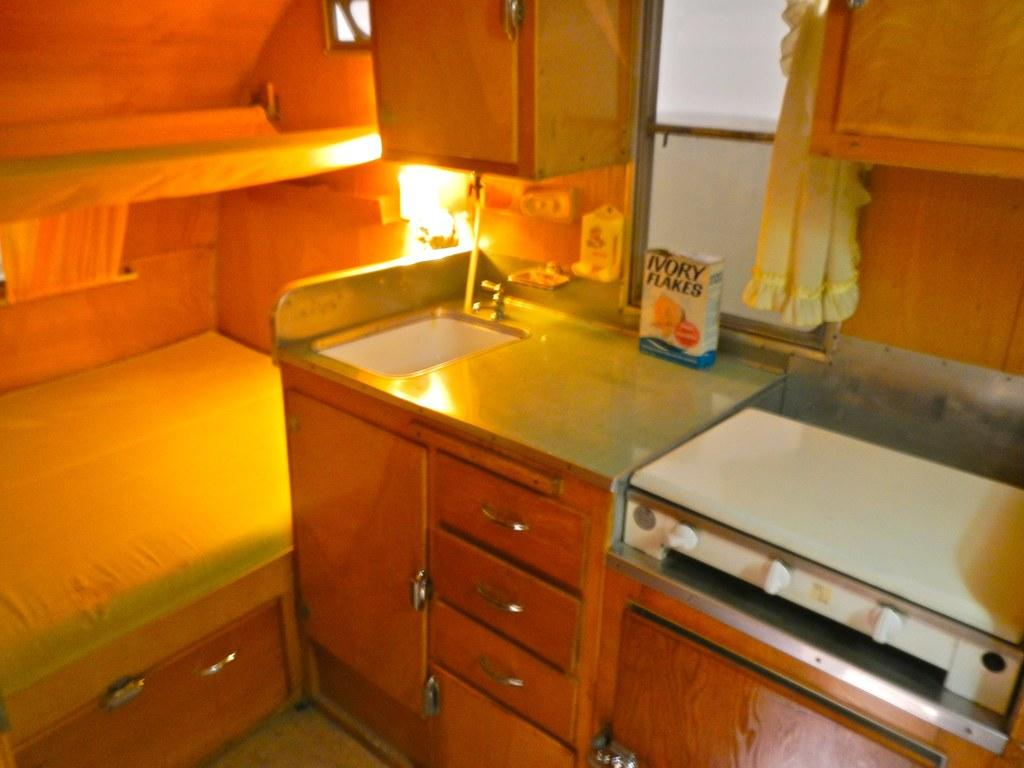cabinet_door: (294, 412, 426, 662), (622, 630, 808, 752), (370, 4, 520, 154), (46, 682, 268, 734), (436, 478, 586, 554), (442, 627, 580, 704), (440, 558, 580, 632)
handle: (474, 652, 532, 696), (478, 504, 536, 540), (478, 588, 524, 618), (496, 2, 525, 40), (195, 656, 247, 676), (419, 680, 443, 718), (410, 570, 428, 612)
